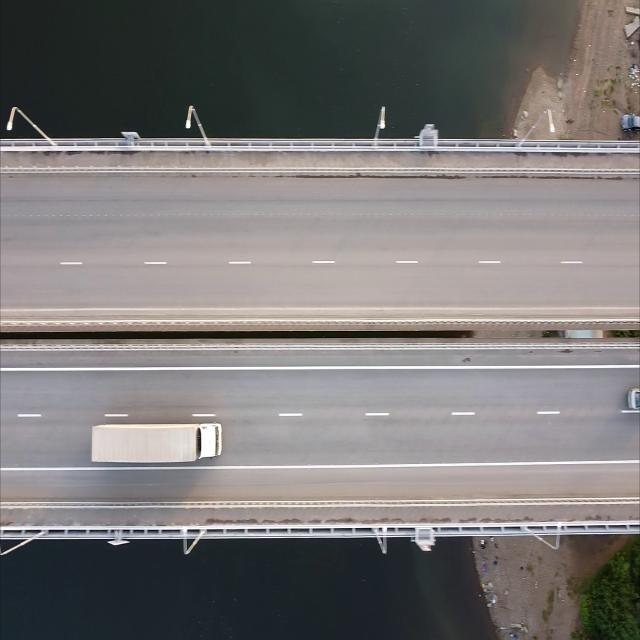vehicle: (94, 422, 220, 467), (620, 112, 640, 132), (627, 388, 640, 411)
